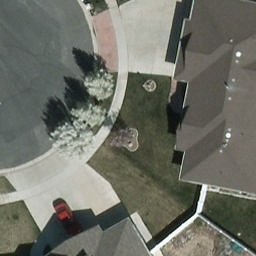car: (54, 203, 87, 237)
